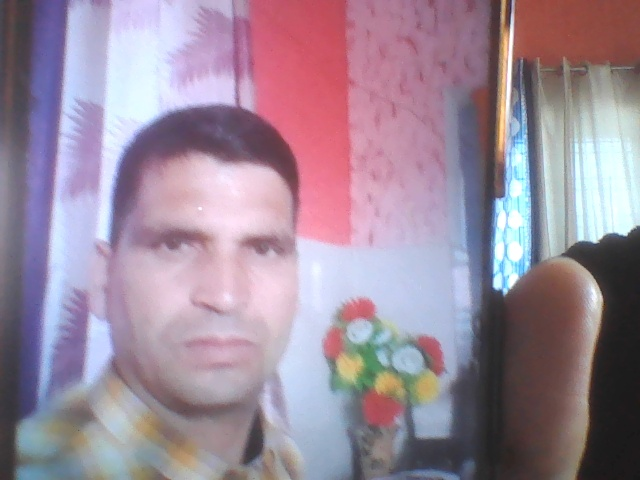fake: (80, 73, 330, 428)
